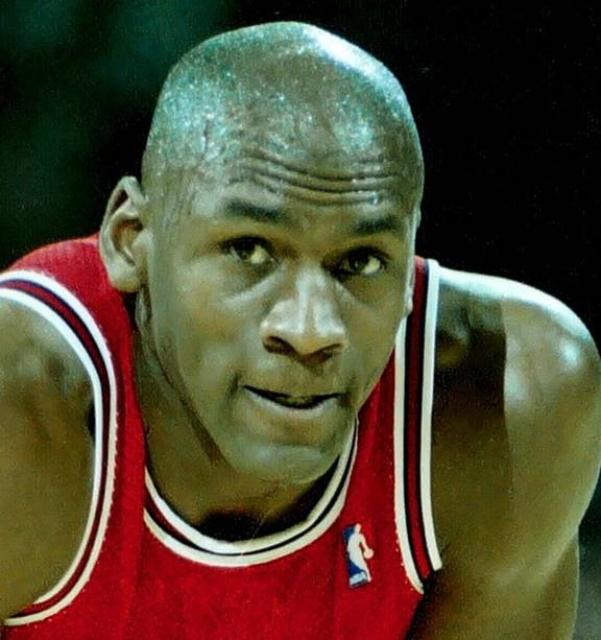forehead: (244, 152, 398, 210)
